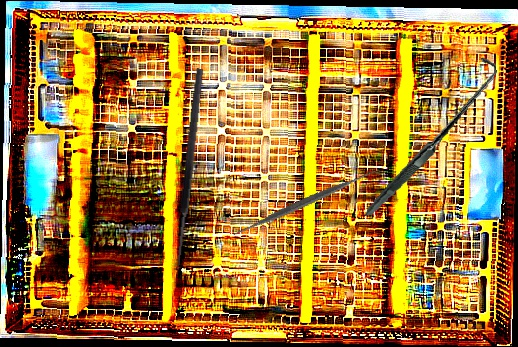Hook Surgical: (345, 56, 515, 216), (172, 68, 215, 272)
Spatula Surgical: (226, 124, 383, 282)
